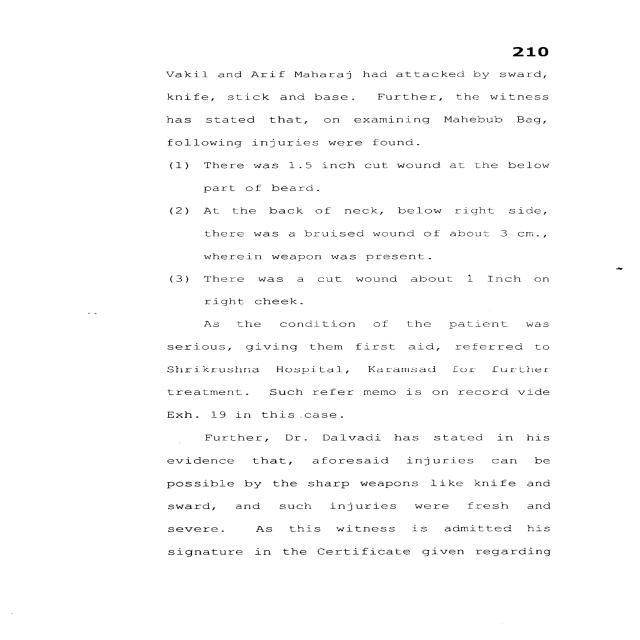page-number: (428, 0, 636, 63)
